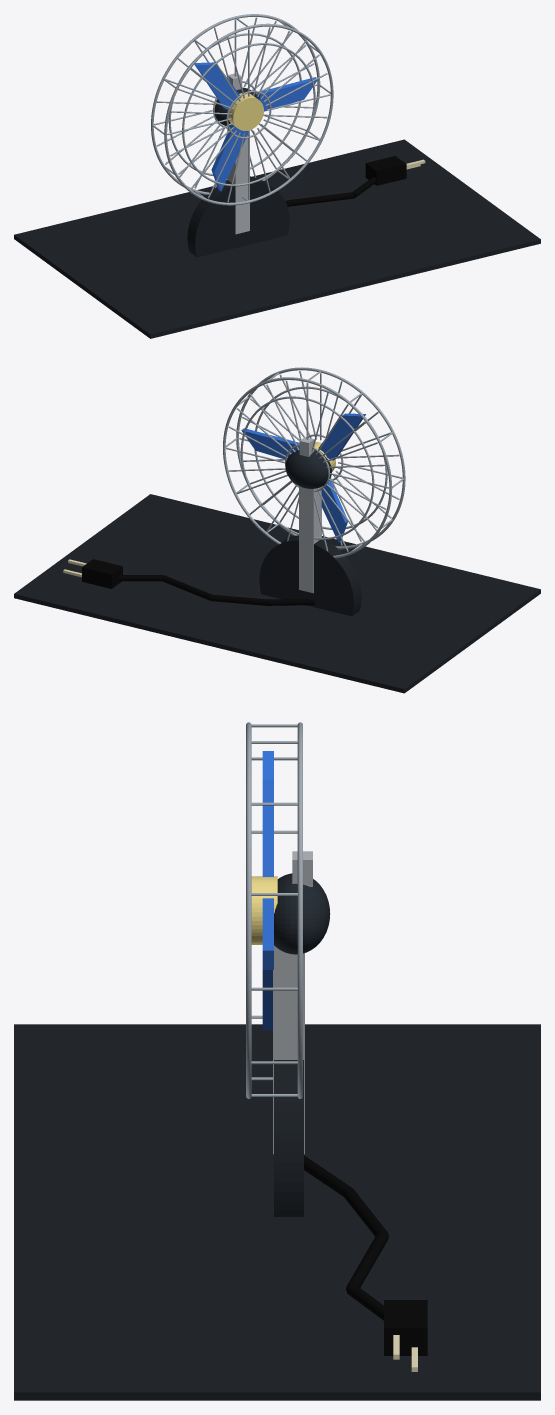
3 views of the same model, one above another, from view 1: azimuth 30°, elevation 25°; view 2: azimuth 150°, elevation 25°; view 3: azimuth 270°, elevation 25° (orthographic). The views are drawn at different scales.
Parts seen in each view (by area): view 1: desk_fan; view 2: desk_fan; view 3: desk_fan.
Boxes of the visible parts, box(x1,y1,x2,y2) form: desk_fan: box(14, 14, 540, 338); desk_fan: box(14, 367, 540, 693); desk_fan: box(14, 722, 540, 1400).
Size of the model in its own units: 7.6 by 4.84 by 4.6.
